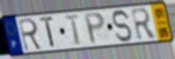P: (82, 11, 106, 46)
R: (130, 7, 158, 42), (17, 17, 44, 53)
S: (111, 8, 134, 44)
T: (39, 15, 57, 51), (63, 14, 83, 46)
